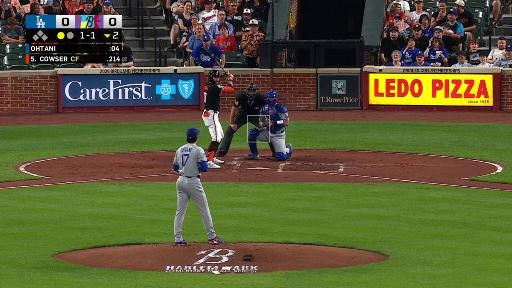pitcher: (172, 127, 225, 245)
